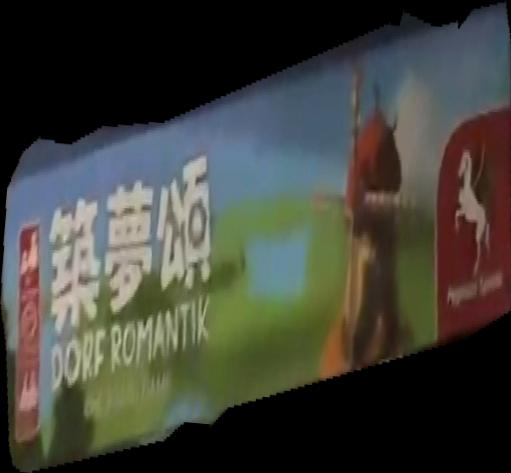flat: (1, 1, 511, 473)
